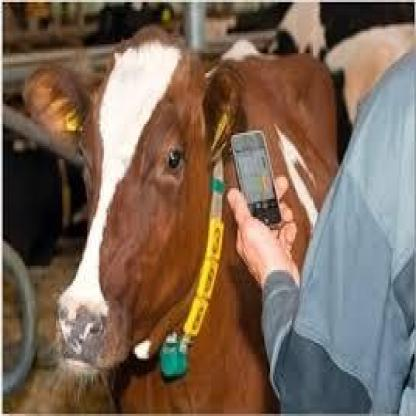cow: (23, 24, 339, 414)
